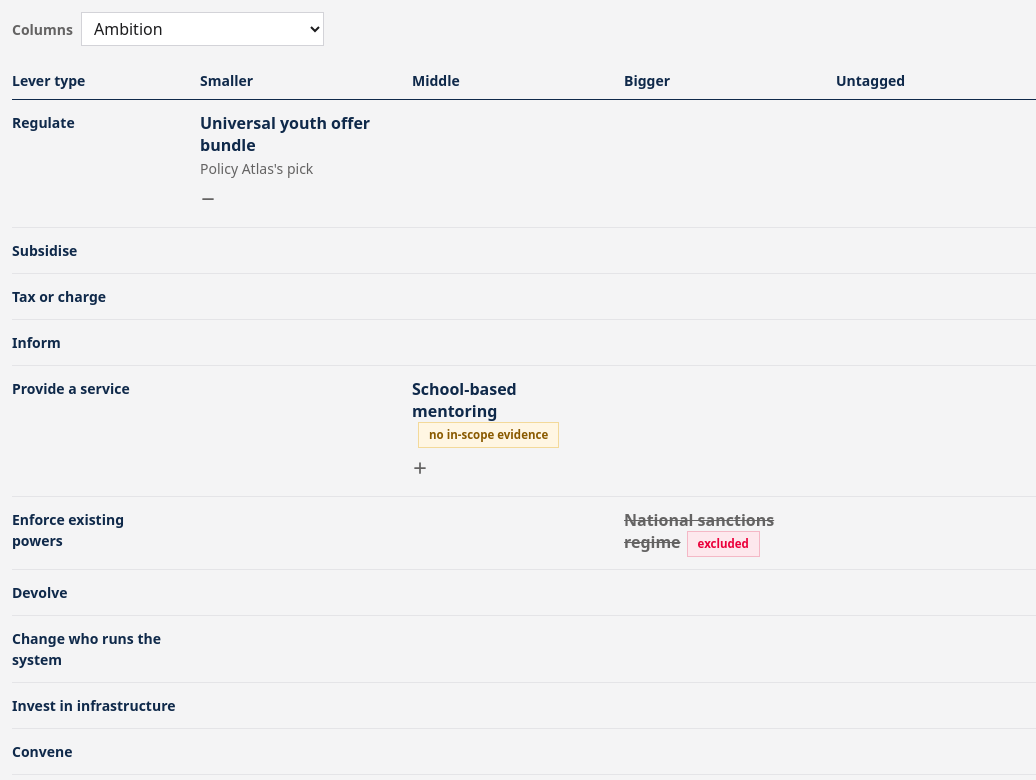
Test: LonglistGrid › columns the grid on Potential impact and places options by its mark
The image size is (1036, 780).
Select "Potential impact" in the dropdown labelled "Columns" at {"x": 202, "y": 29}, box [81, 12, 324, 46]
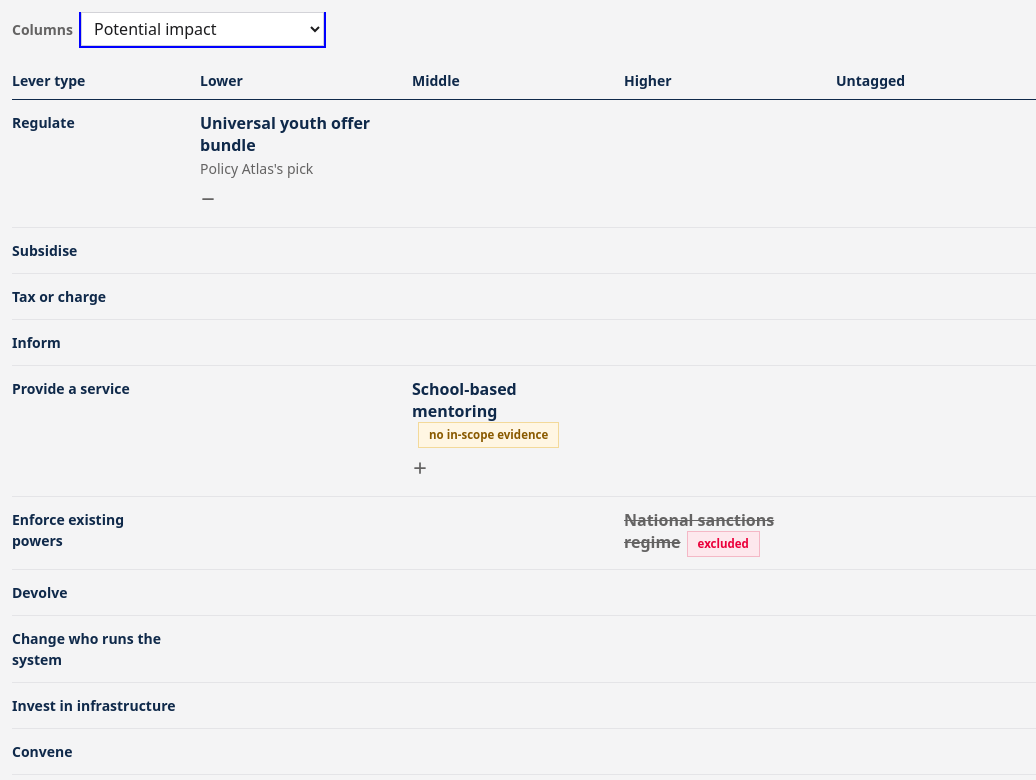
Expected: the column headings read "Lever type", "Lower", "Middle", "Higher", "Untagged", in this order, [12, 62, 188, 100]; [188, 62, 400, 100]; [400, 62, 612, 100]; [612, 62, 824, 100]; [824, 62, 1035, 100]
